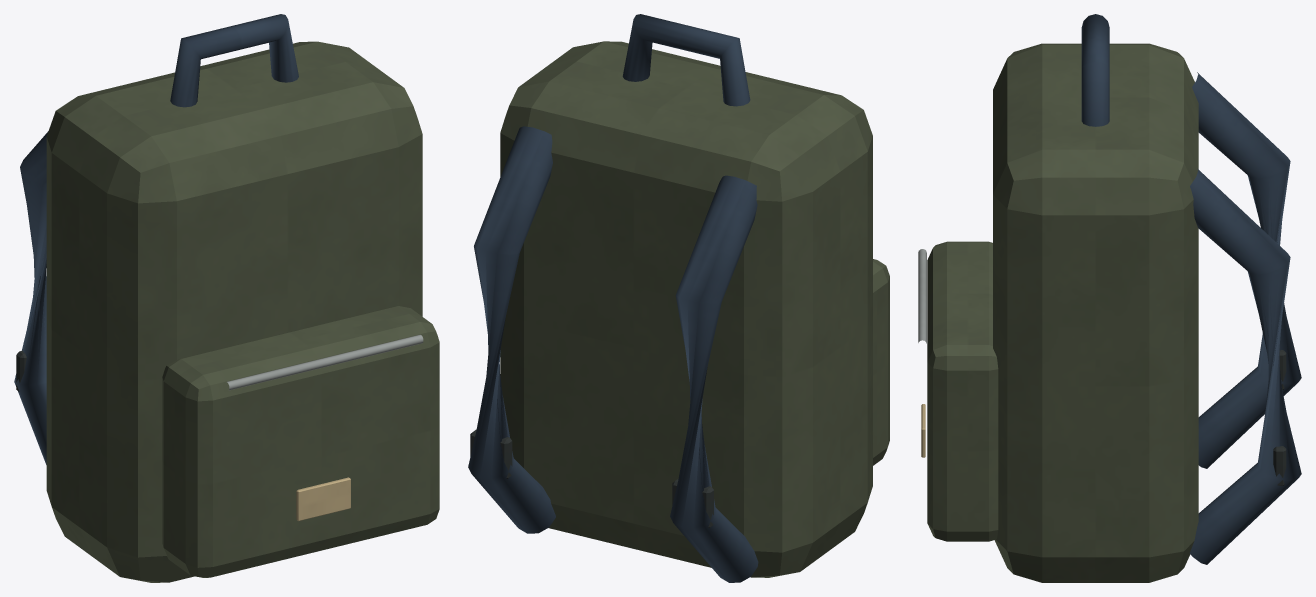
The model's file is backpack.glb.
3 views of the same model, side by side, from view 1: azimuth 30°, elevation 25°; view 2: azimuth 150°, elevation 25°; view 3: azimuth 270°, elevation 25° (orthographic). The views are drawn at different scales.
Parts seen in each view (by area): view 1: backpack_Mesh; view 2: backpack_Mesh; view 3: backpack_Mesh.
Boxes of the visible parts, bbox=[...] form: backpack_Mesh: bbox=[14, 14, 439, 582]; backpack_Mesh: bbox=[468, 14, 889, 582]; backpack_Mesh: bbox=[918, 14, 1301, 582].
Size of the model in its own units: 0.32 by 0.5007 by 0.3544.
5 materials, 5 textured.
